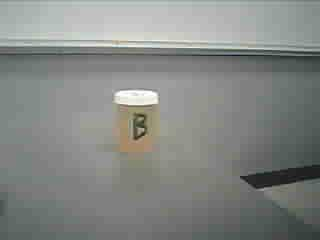Bottle B: (109, 87, 169, 160)
